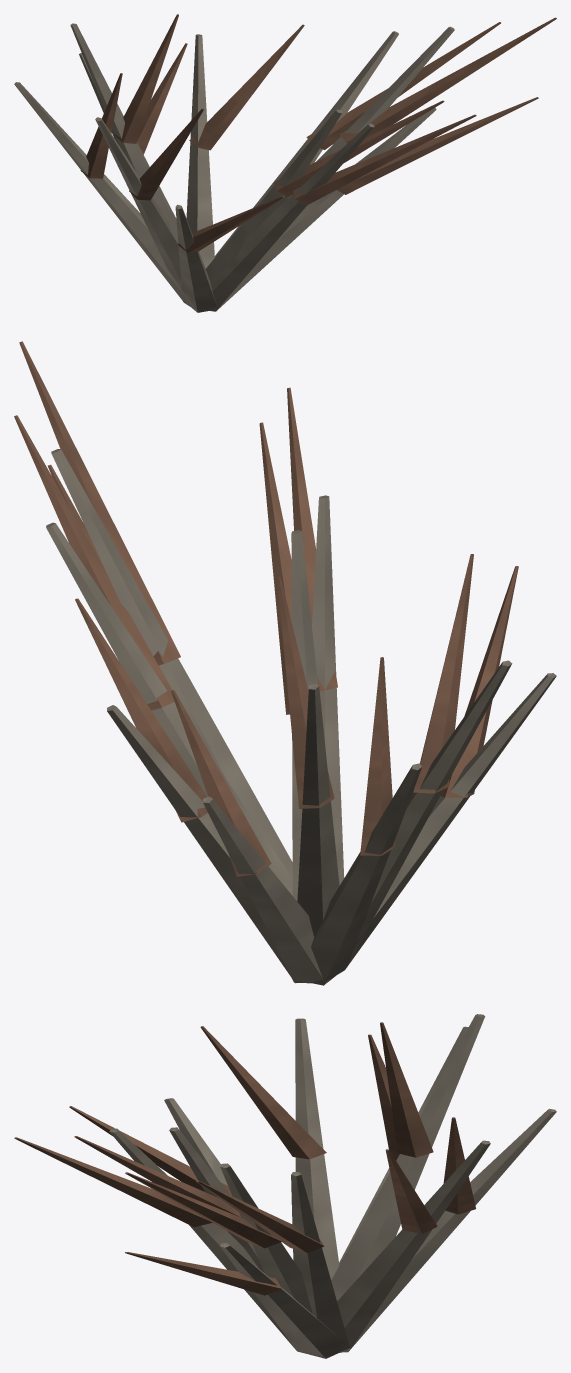
Rendered from bush_thorny_dead_01.fbx.
The picture shows the model from 3 angles, top to bottom: view 1: azimuth 30°, elevation 25°; view 2: azimuth 150°, elevation 25°; view 3: azimuth 270°, elevation 25°; orthographic projection. The views are drawn at different scales.
Visible parts, largest first — view 1: bush_thorny_dead_01; view 2: bush_thorny_dead_01; view 3: bush_thorny_dead_01.
Part boxes in pixels (box(x1,y1,x2,y2)): bush_thorny_dead_01: box(14, 14, 556, 312); bush_thorny_dead_01: box(14, 341, 556, 985); bush_thorny_dead_01: box(14, 1014, 556, 1358).
Bounding box in the file's own units: 148 × 100 × 145.
1 material, 1 textured.
